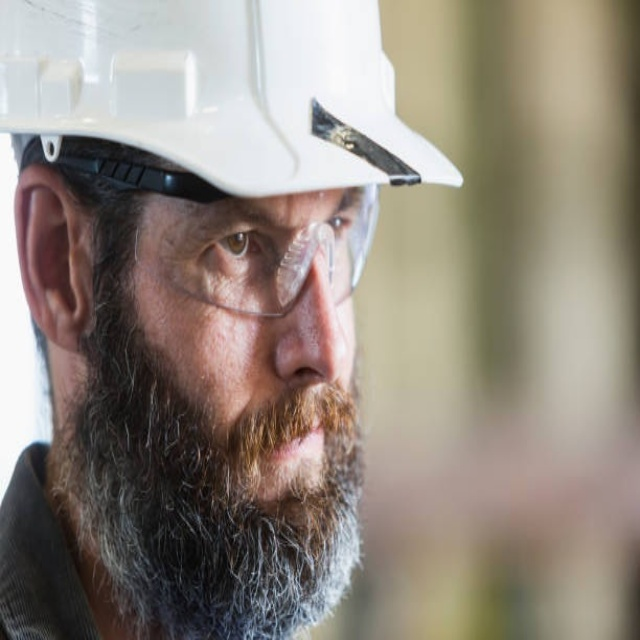Gafas: (132, 182, 384, 315)
Sin_mascara: (212, 329, 375, 538)
